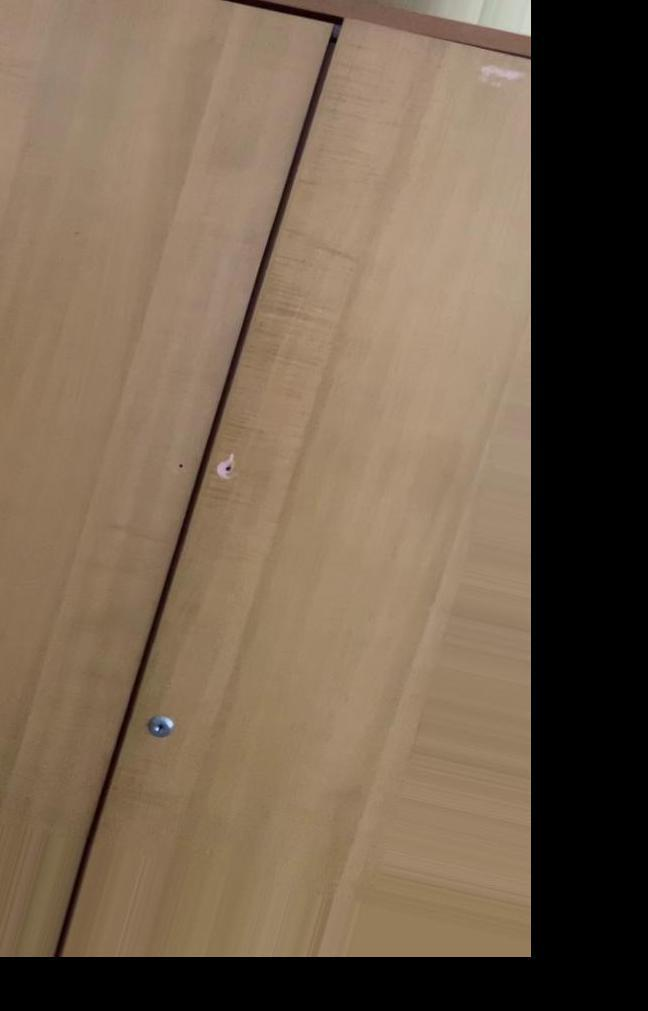Armario: (0, 0, 530, 944)
